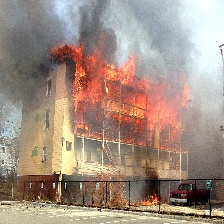fire: (48, 41, 191, 157), (135, 192, 162, 206)
smoke: (1, 1, 205, 62)
